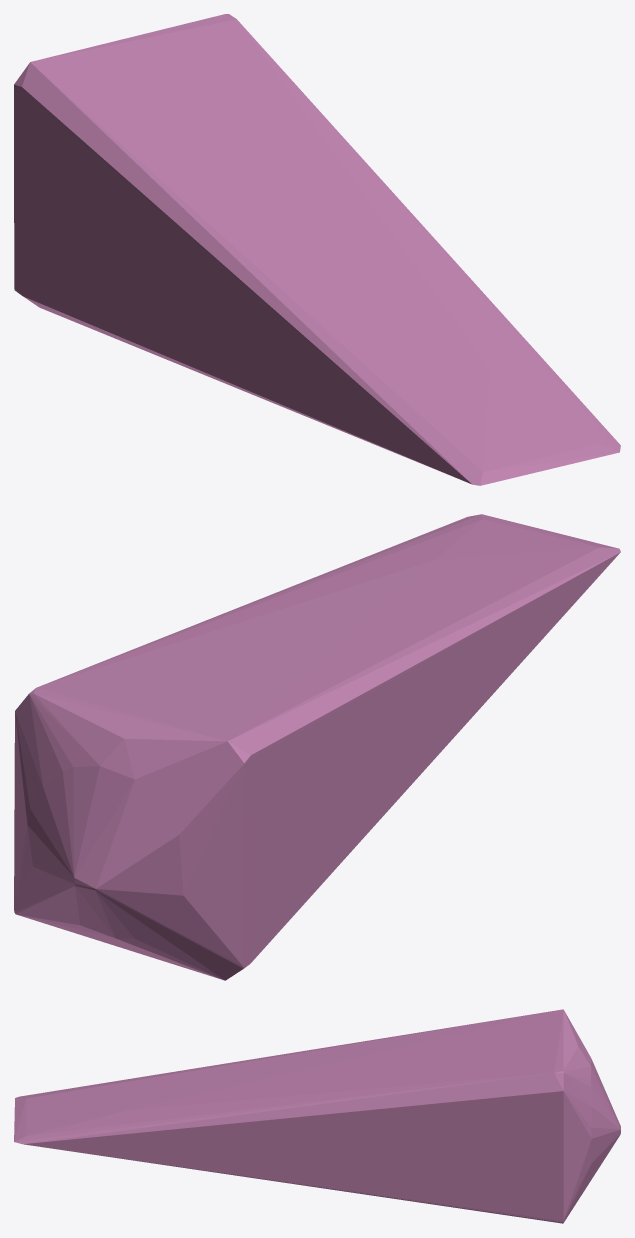
The model's file is sign_floor_movable_a01.glb.
3 views of the same model, one above another, from view 1: azimuth 30°, elevation 25°; view 2: azimuth 150°, elevation 25°; view 3: azimuth 270°, elevation 25° (orthographic). The views are drawn at different scales.
Visible parts, largest first — view 1: geometry_0; view 2: geometry_0; view 3: geometry_0.
Part boxes in pixels (x1=…): geometry_0: x1=14, y1=14, x2=620, y2=485; geometry_0: x1=14, y1=514, x2=620, y2=980; geometry_0: x1=14, y1=1009, x2=620, y2=1223.
Bounding box in the file's own units: 0.1369 × 0.1368 × 0.4793.
